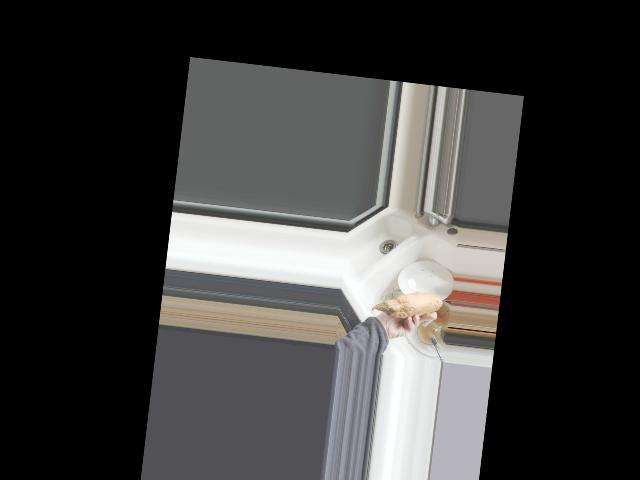sweet_potato: (370, 284, 443, 322)
